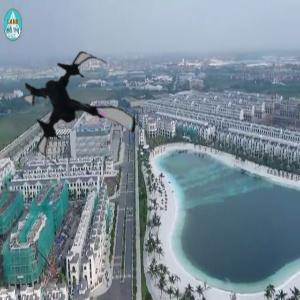drone: (17, 50, 140, 173)
